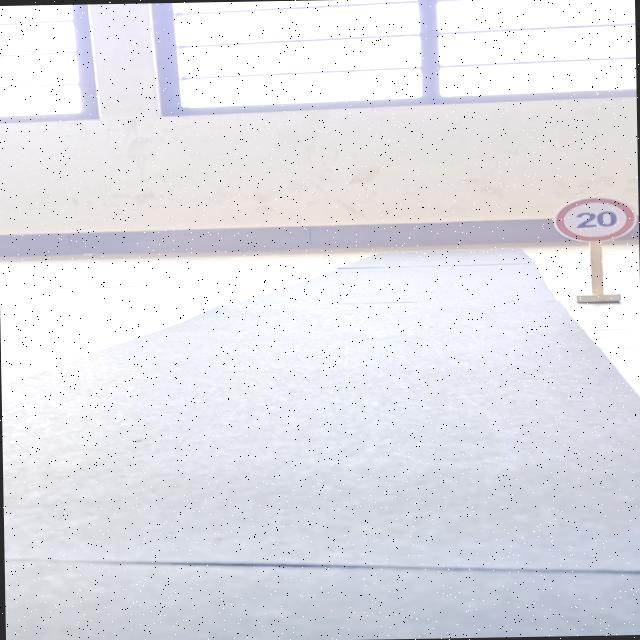Speed20: (550, 192, 638, 246)
